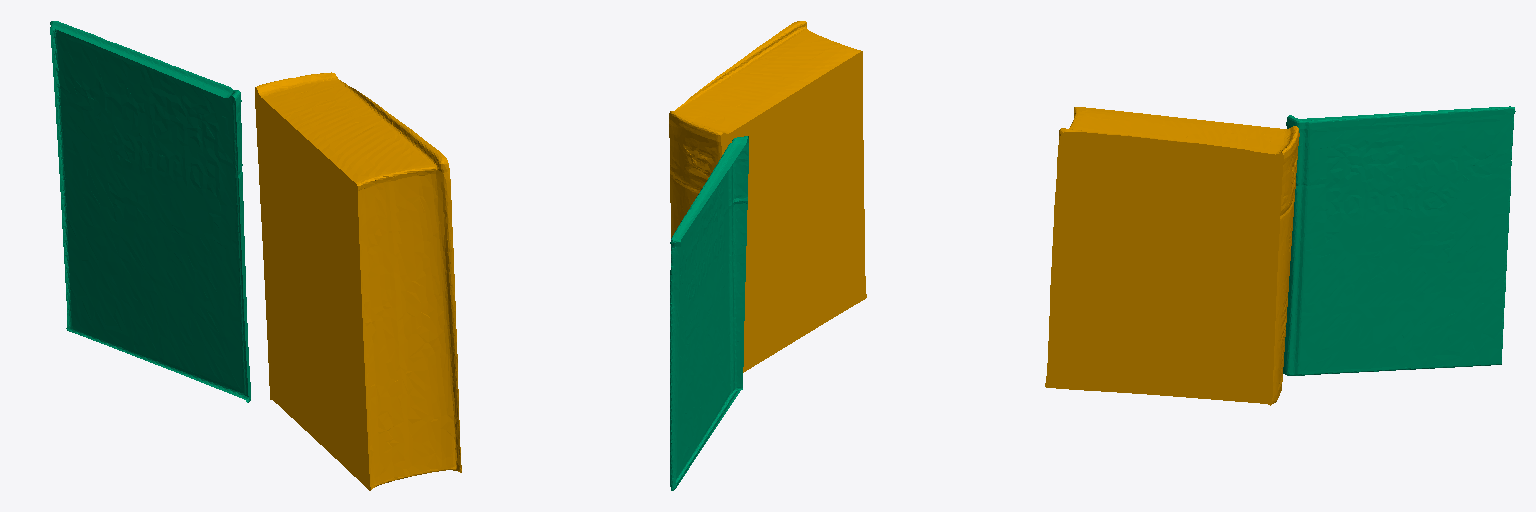
URDF robot description (book):
<?xml version="1.0"?>
<robot name="book">
  <link name ="rb0">
    <visual>
      <origin xyz='0.114733 -0.044798 -0.125005' rpy='0.235378 -1.472020 -1.942373'/>
      <geometry>
        <mesh filename="package://articulated_objects_db/data/objects/book/meshes/book_bottom.obj"  scale="1 1 1" />
      </geometry>
    </visual>
  </link>
  <joint name="j_0_1" type="revolute">
    <parent link="rb0"/>
    <child link="rb1"/>
    <origin xyz="-0.0243083470999 0.0882301176908 -0.0226297474103" rpy="0 0 0 "/>
    <axis xyz="-0.0154803942539 0.0328616666867 0.999340016339"/>
    <limit effort="30" velocity="1.0" lower="-3.1416" upper="3.1416"/>
  </joint>
  <joint name="j_0_fixed" type="fixed">
    <parent link="rb1"/>
    <child link="rb1_marker"/>
      <origin xyz="-0.047603888393 0.186860290786 -0.00745502591569" rpy="-1.5857036649 -0.0472023600393 -0.226381254476"/>
    <limit effort="30" velocity="1.0" lower="-3.1416" upper="3.1416"/>
  </joint>
  <link name ="rb1">
  </link>
  <link name ="rb1_marker">
    <visual>
      <origin xyz='-0.033606 0.111992 -0.131134' rpy='-2.687362 -0.140623 -1.633955'/>
      <geometry>
        <mesh filename="package://articulated_objects_db/data/objects/book/meshes/book_top.obj"  scale="1 1 1" />
      </geometry>
    </visual>
  </link>
</robot>

--- Facts derived from the render (not from the file) ---
Views: 3 orthographic renders of the robot side by side, from view 1: azimuth 30°, elevation 25°; view 2: azimuth 150°, elevation 25°; view 3: azimuth 270°, elevation 25°.
Model book with 3 links and 2 joints (1 revolute, 1 fixed), rooted at rb0, posed all joints at 0.
Visible links, largest first — view 1: rb0, rb1_marker; view 2: rb0, rb1_marker; view 3: rb0, rb1_marker.
Boxes of the visible links, bbox=[...] form: rb0: bbox=[255, 72, 461, 490]; rb1_marker: bbox=[50, 21, 250, 402]; rb0: bbox=[669, 21, 866, 372]; rb1_marker: bbox=[670, 136, 748, 490]; rb0: bbox=[1045, 107, 1299, 405]; rb1_marker: bbox=[1283, 106, 1515, 375].
Size in the robot's own frame: 0.1295 by 0.4165 by 0.2737 metres.
Meshes: 2 distinct files referenced, 2 mesh visuals loaded (2 OBJ).